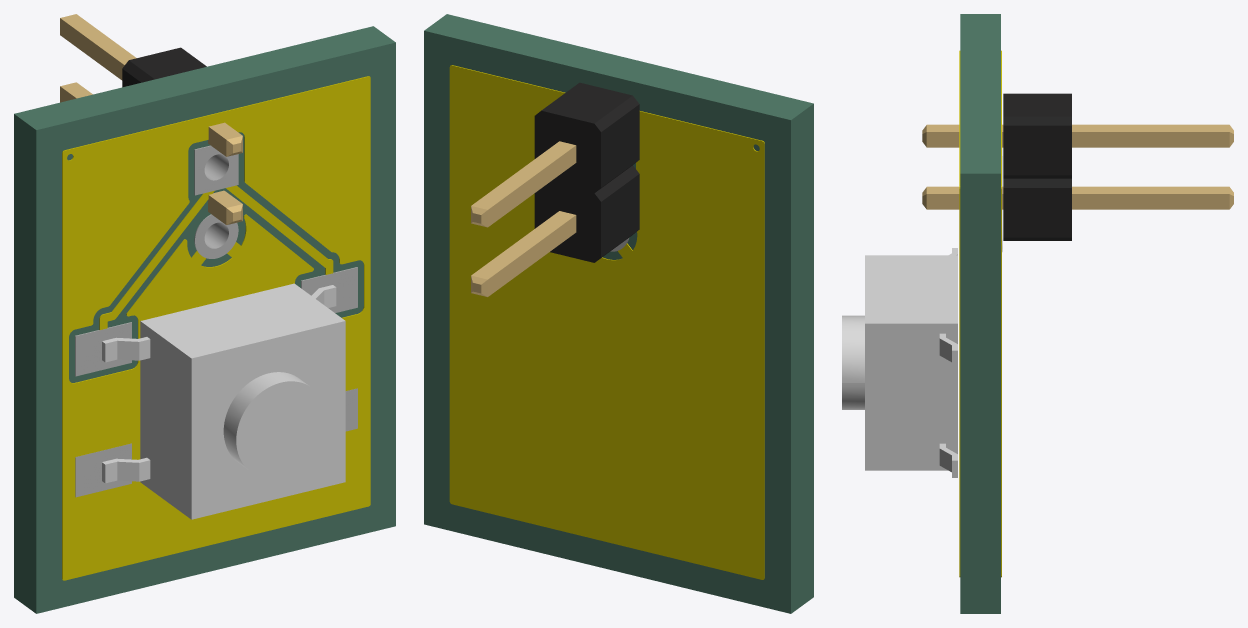
Rendered from keys.glb.
3 renders of one model, left to right at view 1: azimuth 30°, elevation 25°; view 2: azimuth 150°, elevation 25°; view 3: azimuth 270°, elevation 25°, orthographic. The views are drawn at different scales.
Parts seen in each view (by area): view 1: o1.3, o1.6, o1.1.1.1, o1.4, o1.2.1; view 2: o1.3, o1.6, o1.2.1; view 3: o1.6, o1.1.1.1, o1.2.1, o1.3.
Part boxes in pixels (x1,y1,x2,y2): o1.3: [62, 76, 370, 580]; o1.6: [14, 26, 395, 613]; o1.1.1.1: [102, 283, 345, 519]; o1.4: [75, 145, 357, 497]; o1.2.1: [60, 14, 242, 224]; o1.3: [449, 65, 764, 579]; o1.6: [424, 14, 813, 613]; o1.2.1: [471, 82, 639, 296]; o1.6: [960, 14, 1000, 613]; o1.1.1.1: [842, 248, 957, 477]; o1.2.1: [922, 93, 1233, 240]; o1.3: [959, 50, 1001, 577].
Size of the model in its own units: 0.014 by 0.018 by 0.0145.
